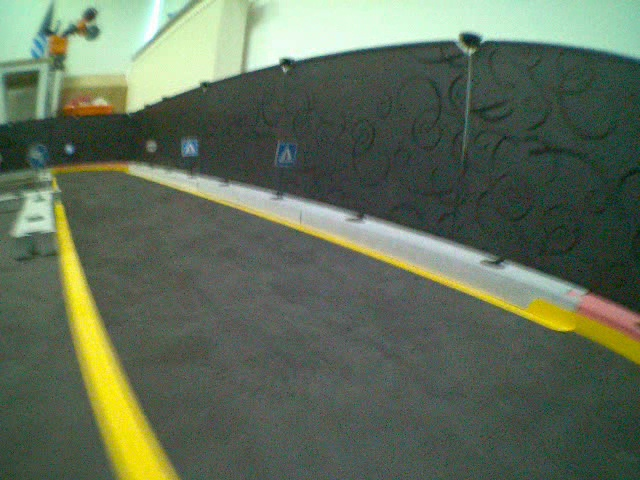crossing: (275, 140, 300, 167), (181, 137, 199, 155)
